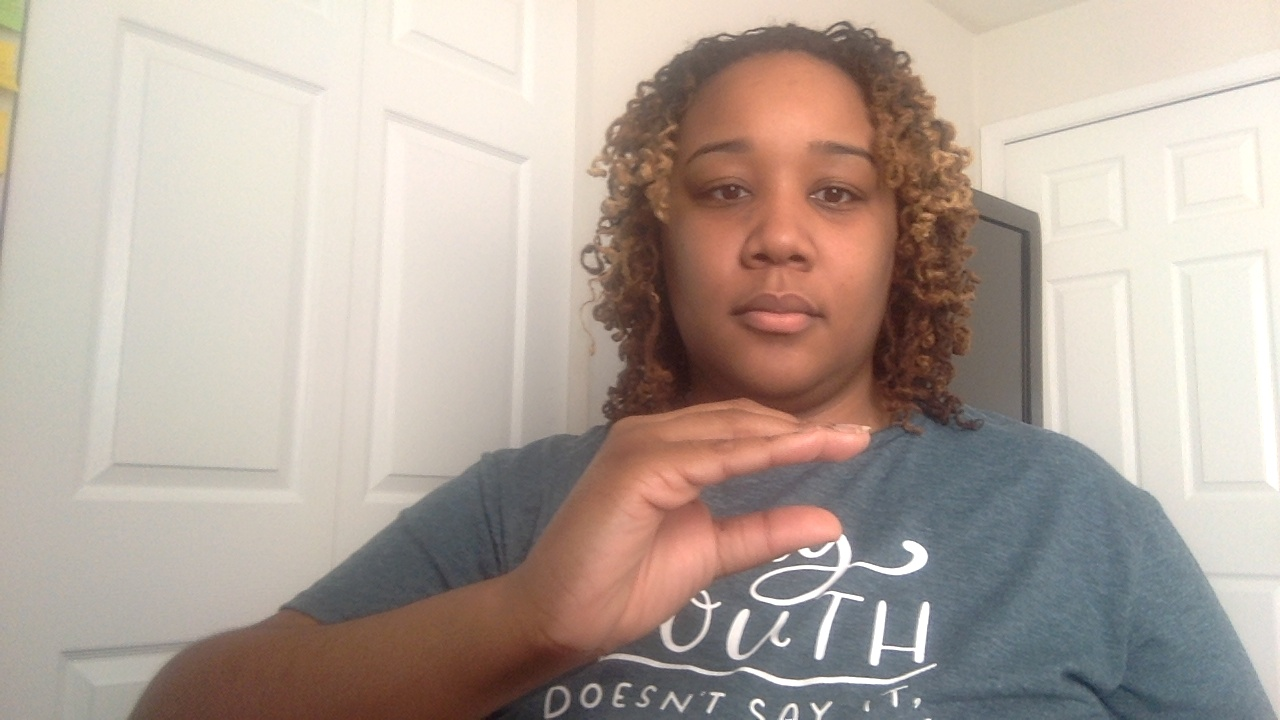no: (547, 18, 956, 661)
